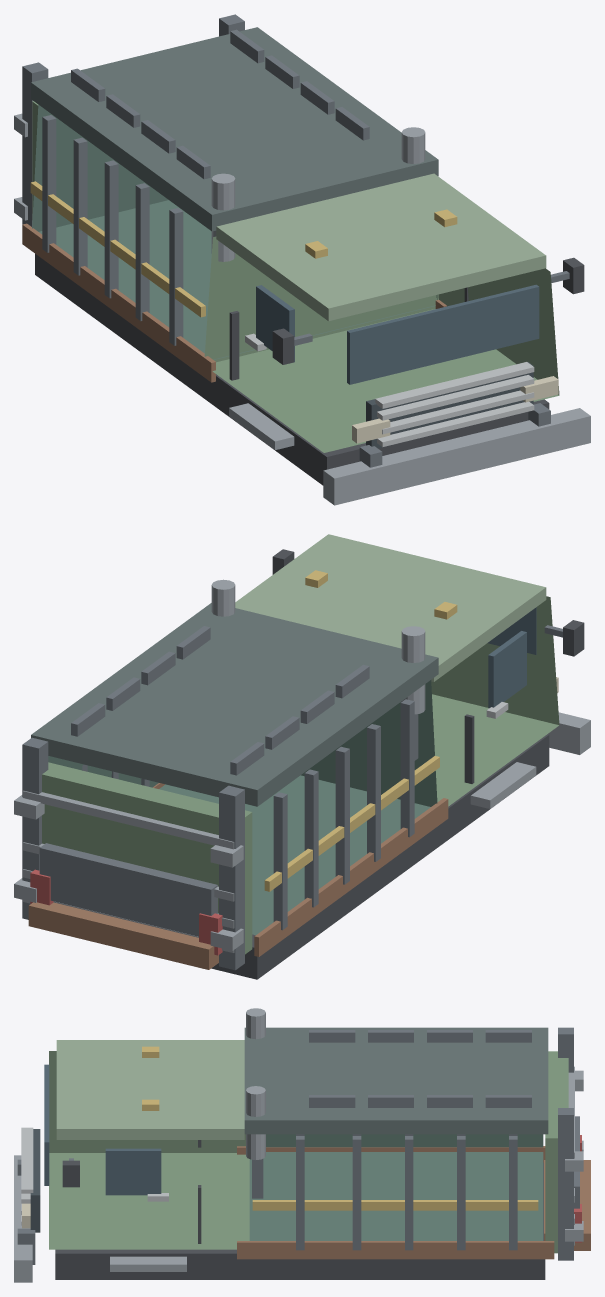
File: grinder.glb
3 renders of one model, top to bottom at view 1: azimuth 30°, elevation 25°; view 2: azimuth 150°, elevation 25°; view 3: azimuth 270°, elevation 25°, orthographic. The views are drawn at different scales.
Parts seen in each view (by area): view 1: grinder_material_12, grinder_material_02, grinder_material_01, grinder_material_07, grinder_material_06, grinder_material_11, grinder_material_03, grinder_material_00, grinder_material_05, grinder_material_09, grinder_material_08, grinder_material_04 (+1 smaller); view 2: grinder_material_12, grinder_material_07, grinder_material_01, grinder_material_02, grinder_material_11, grinder_material_06, grinder_material_09, grinder_material_00, grinder_material_03, grinder_material_08, grinder_material_13; view 3: grinder_material_12, grinder_material_11, grinder_material_01, grinder_material_02, grinder_material_07, grinder_material_00, grinder_material_09, grinder_material_06, grinder_material_03, grinder_material_08, grinder_material_05, grinder_material_04.
Part boxes in pixels (<box>): grinder_material_12: <box>31,27,438,231</box>; grinder_material_02: <box>216,173,546,321</box>; grinder_material_01: <box>32,101,559,452</box>; grinder_material_07: <box>22,14,569,467</box>; grinder_material_06: <box>14,113,590,505</box>; grinder_material_11: <box>32,104,437,359</box>; grinder_material_03: <box>256,284,539,384</box>; grinder_material_00: <box>35,254,584,485</box>; grinder_material_05: <box>245,333,534,447</box>; grinder_material_09: <box>22,223,446,382</box>; grinder_material_08: <box>30,181,457,317</box>; grinder_material_04: <box>366,362,533,448</box>; grinder_material_12: <box>31,603,438,806</box>; grinder_material_07: <box>22,625,562,970</box>; grinder_material_01: <box>42,596,559,954</box>; grinder_material_02: <box>235,534,546,681</box>; grinder_material_11: <box>48,680,437,935</box>; grinder_material_06: <box>14,579,590,952</box>; grinder_material_09: <box>28,783,448,969</box>; grinder_material_00: <box>211,549,584,979</box>; grinder_material_03: <box>487,607,536,708</box>; grinder_material_08: <box>264,570,457,891</box>; grinder_material_13: <box>30,869,222,955</box>; grinder_material_12: <box>244,1027,548,1134</box>; grinder_material_11: <box>249,1134,543,1240</box>; grinder_material_01: <box>49,1051,568,1253</box>; grinder_material_02: <box>56,1040,244,1139</box>; grinder_material_07: <box>17,1027,579,1264</box>; grinder_material_00: <box>55,1140,545,1279</box>; grinder_material_09: <box>237,1146,590,1259</box>; grinder_material_06: <box>14,1008,583,1282</box>; grinder_material_03: <box>44,1064,161,1195</box>; grinder_material_08: <box>142,1046,538,1210</box>; grinder_material_05: <box>21,1127,168,1225</box>; grinder_material_04: <box>30,1129,40,1232</box>.
Size of the model in its own units: 6.44 by 4.46 by 12.72.
